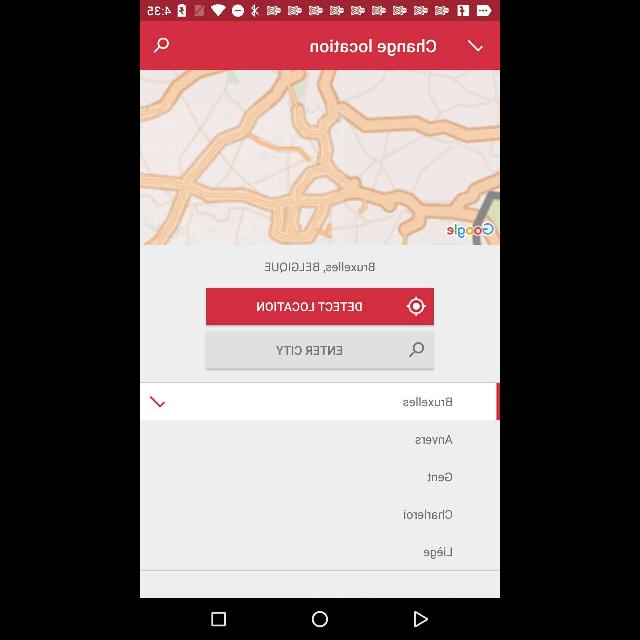icon: (152, 35, 172, 55), (147, 393, 169, 411), (406, 297, 424, 317), (311, 610, 329, 628), (411, 610, 429, 628), (408, 341, 424, 359), (466, 38, 486, 52), (212, 610, 226, 628)
input: (206, 332, 434, 370)
map: (140, 70, 500, 246)
panel: (142, 20, 498, 70), (141, 598, 499, 638)
text: (306, 38, 438, 58), (262, 260, 376, 274), (255, 300, 362, 312), (274, 344, 344, 358), (402, 506, 454, 522), (400, 395, 454, 409), (419, 543, 453, 561), (411, 434, 453, 446), (423, 470, 453, 482)
textbutton: (206, 288, 434, 324)
uppertaskbar: (141, 1, 499, 20)
